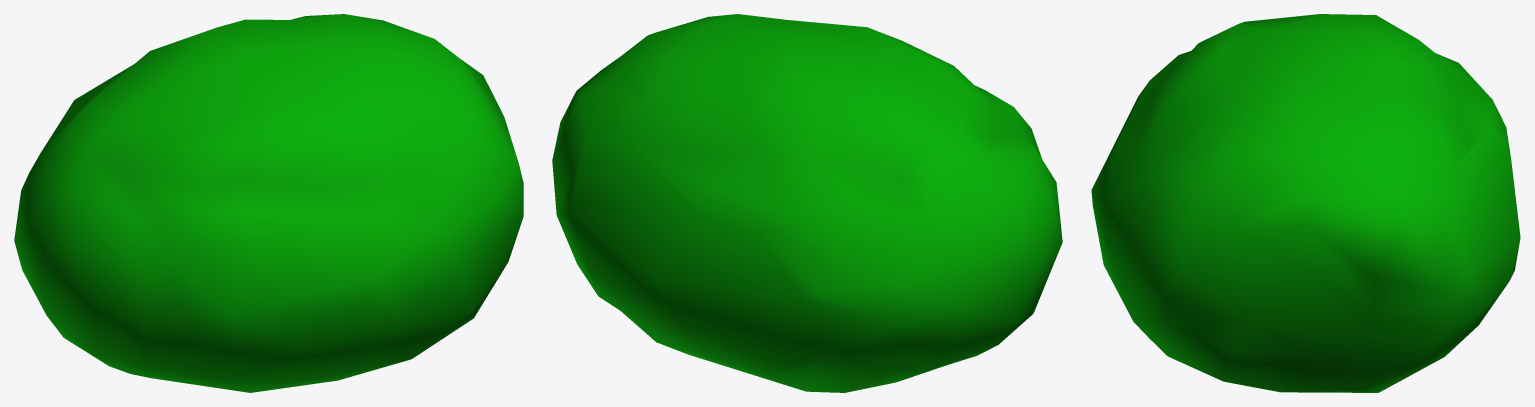
File: rock_small_d.glb
3 renders of one model, left to right at view 1: azimuth 30°, elevation 25°; view 2: azimuth 150°, elevation 25°; view 3: azimuth 270°, elevation 25°, orthographic.
Visible parts, largest first — view 1: LOD0; view 2: LOD0; view 3: LOD0.
Part boxes in pixels (x1,y1,x2,y2): LOD0: (14, 14, 523, 392); LOD0: (552, 14, 1062, 392); LOD0: (1091, 14, 1520, 392).
Size of what is drawn, in the model's own units: 0.2348 by 0.1518 by 0.1985.
